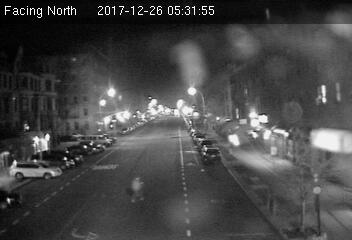car: (200, 144, 223, 163)
